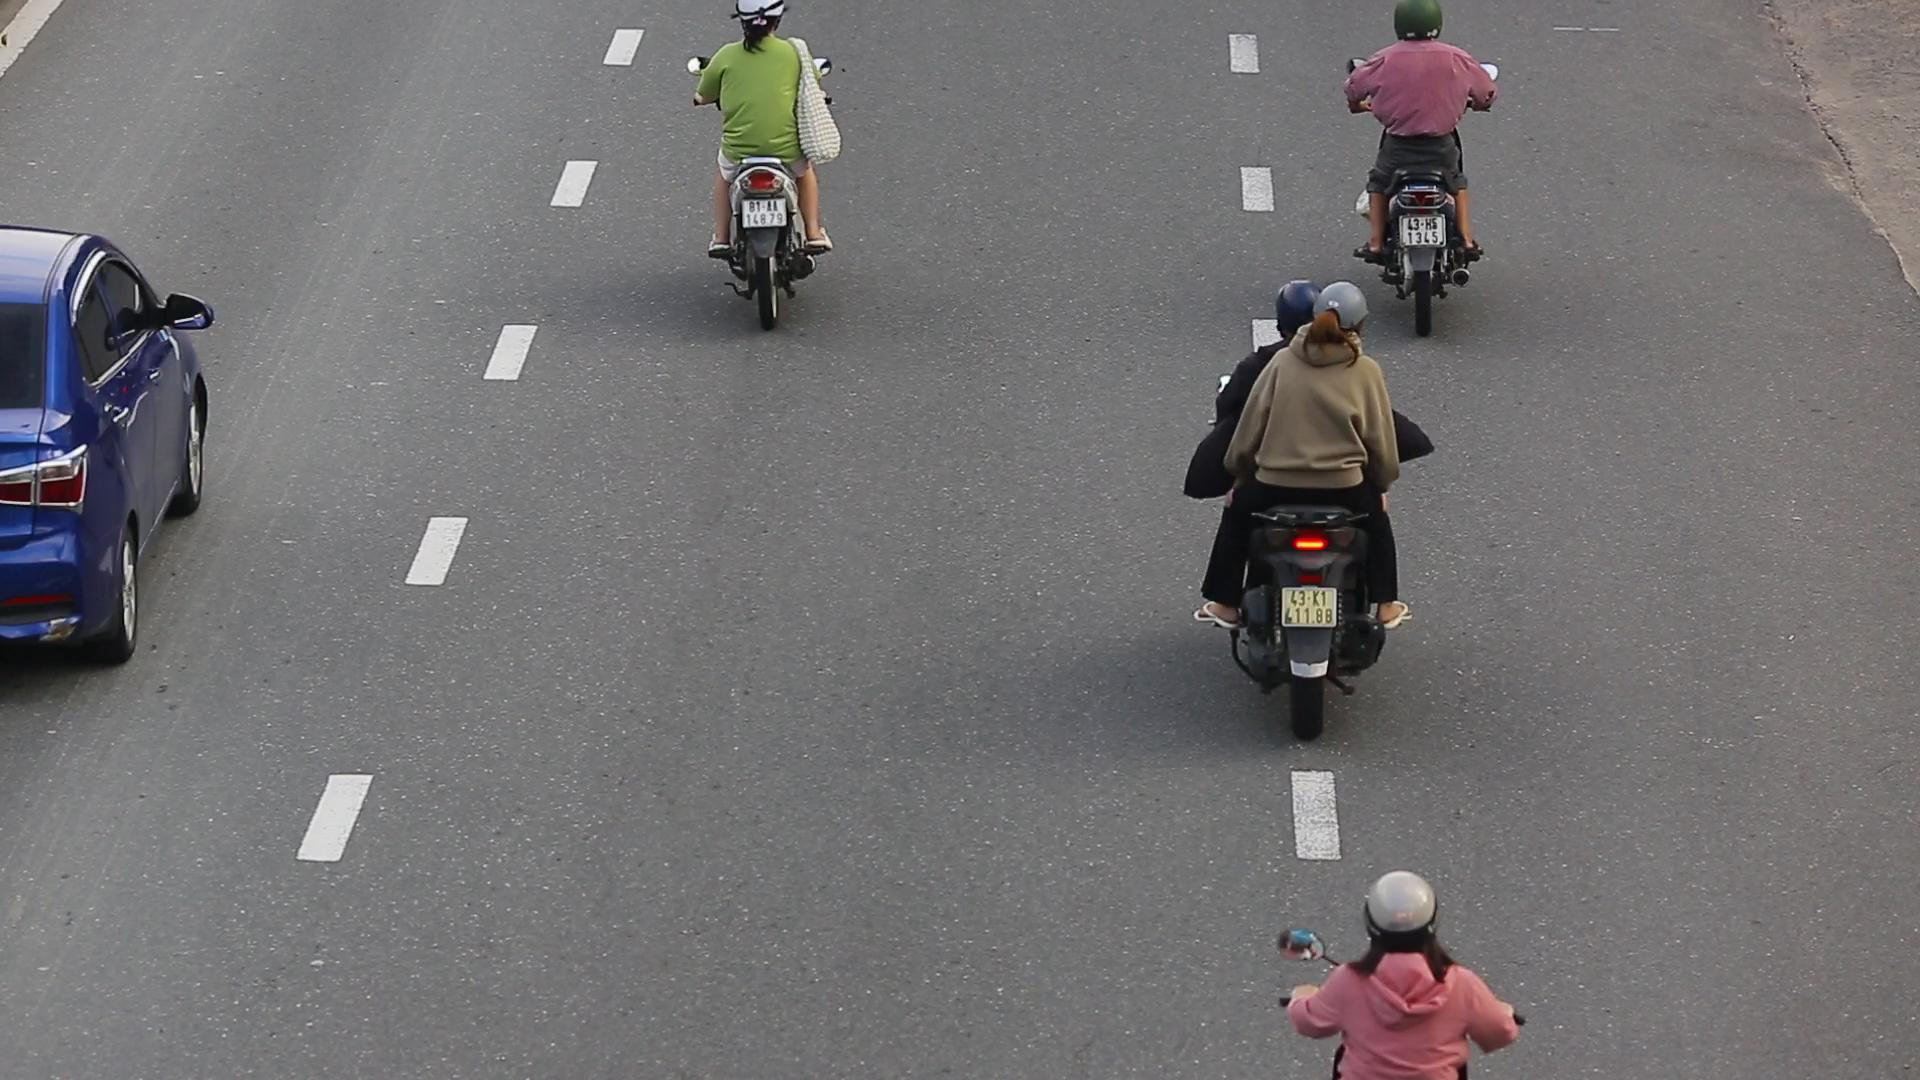motobike: (1176, 270, 1437, 746), (1346, 0, 1511, 336), (676, 0, 843, 332)
